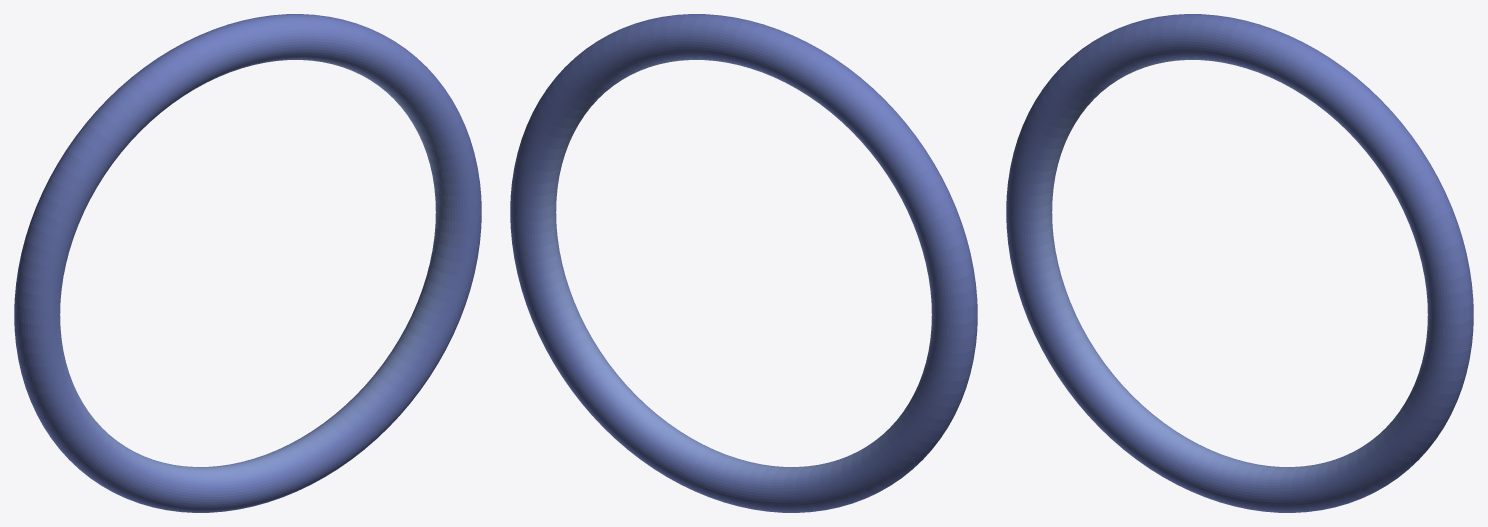
3 views of the same model, side by side, from view 1: azimuth 30°, elevation 25°; view 2: azimuth 150°, elevation 25°; view 3: azimuth 330°, elevation 25° (orthographic).
Visible parts, largest first — view 1: world; view 2: world; view 3: world.
Boxes of the visible parts, bbox=[...] form: world: bbox=[14, 14, 481, 512]; world: bbox=[510, 14, 977, 512]; world: bbox=[1006, 14, 1473, 512].
Bounding box in the file's own units: 26.27 × 26.27 × 2.26.
